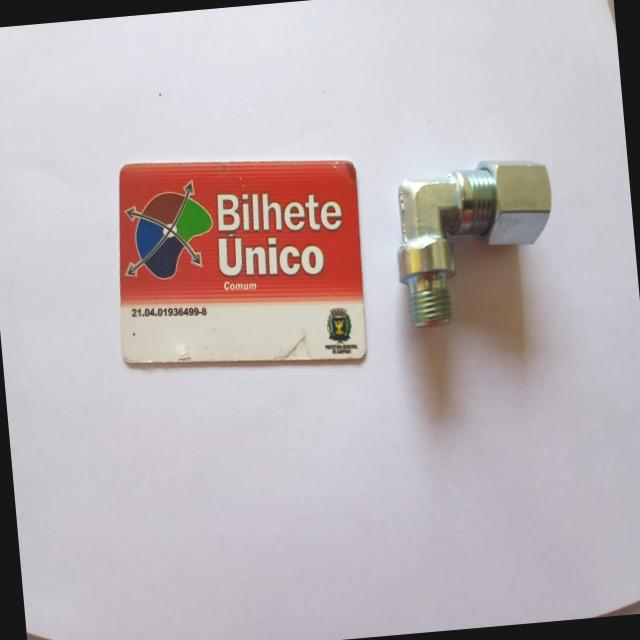cartao: (105, 145, 372, 382)
rosca_externa: (390, 153, 562, 328)
